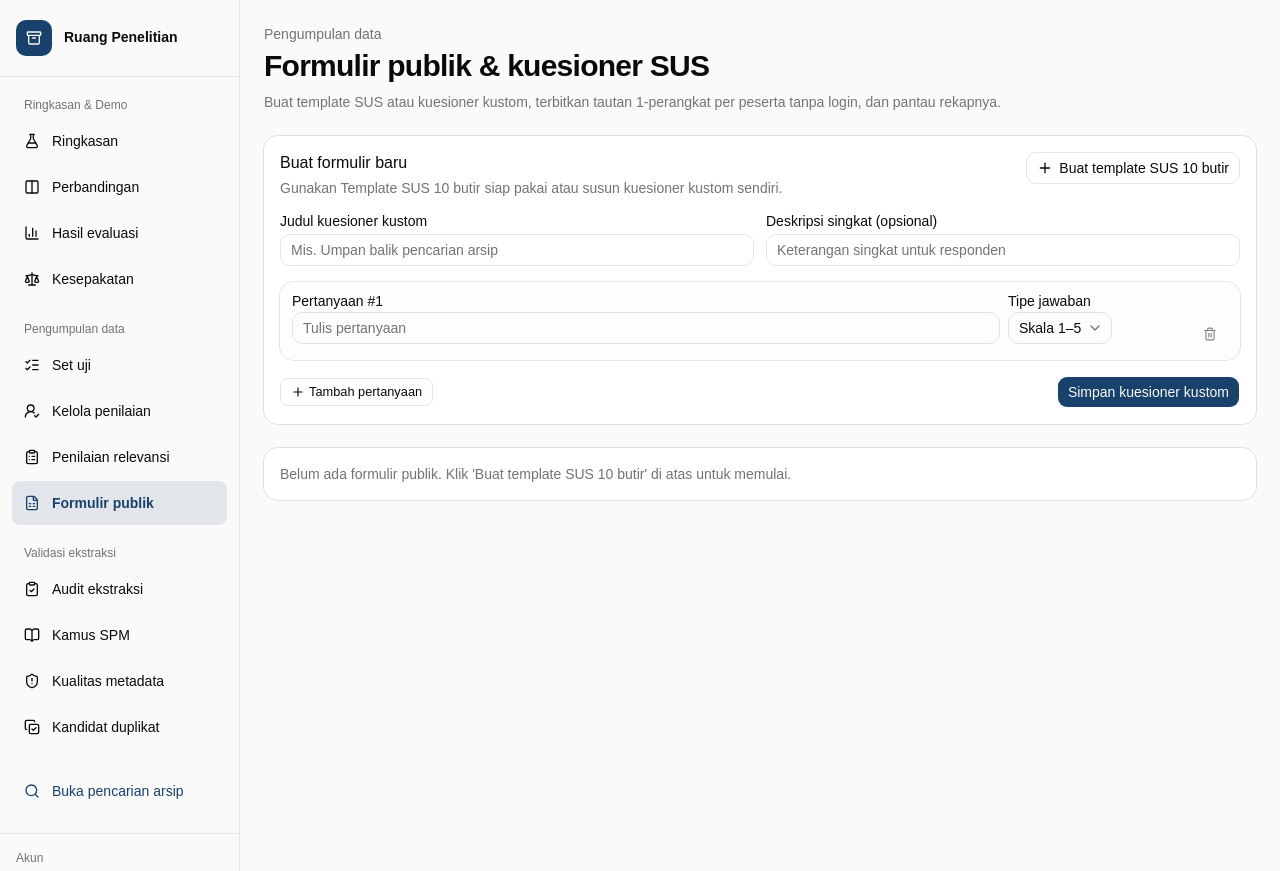
admin dapat membuat template SUS dan generate tautan di /app/research/forms, petugas ditolak 403
Later steps or results of the test are not shown.
Click the button "Buat template SUS 10 butir": coordinates (1133, 168) [1026,152,1240,184]
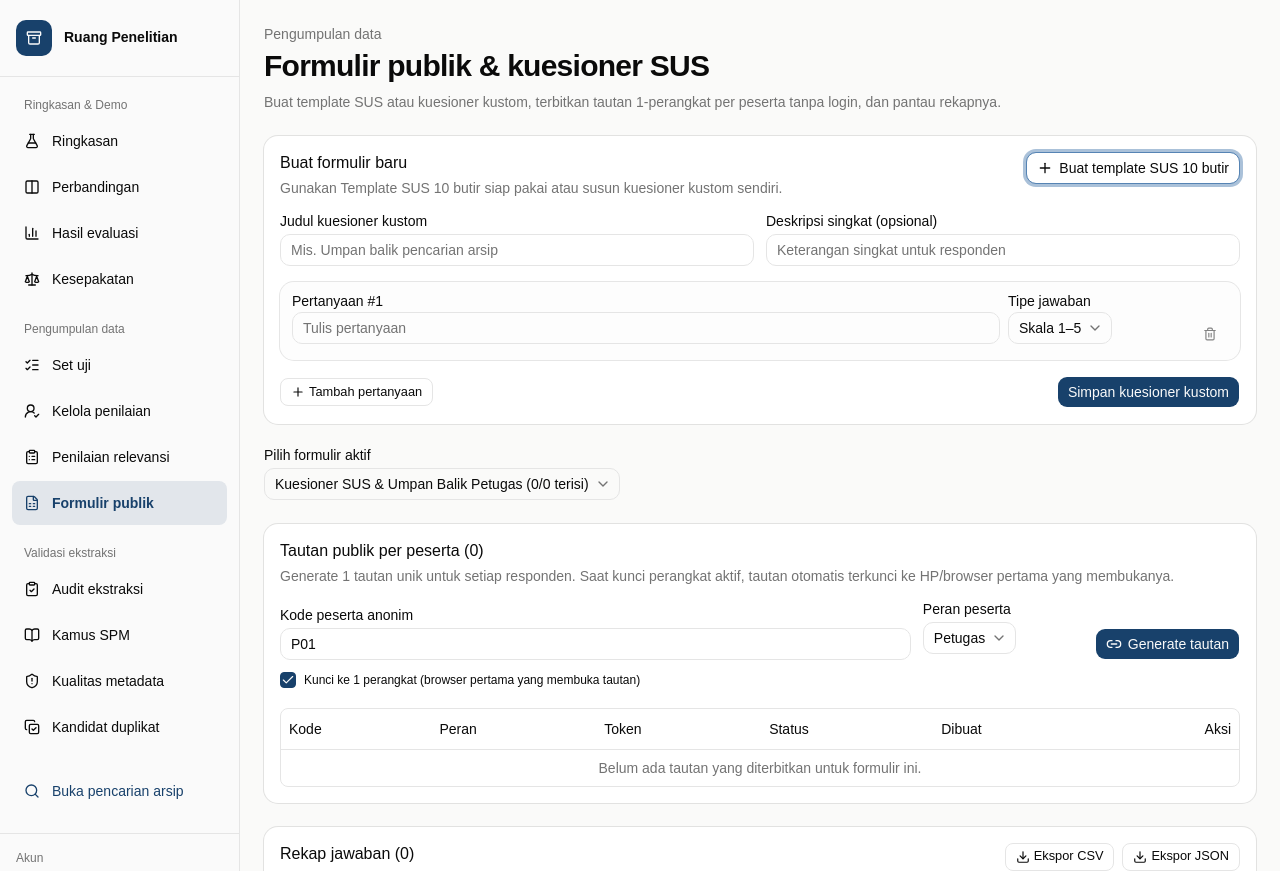
Click the button "Generate tautan": coordinates (1167, 644) [1095,628,1240,660]
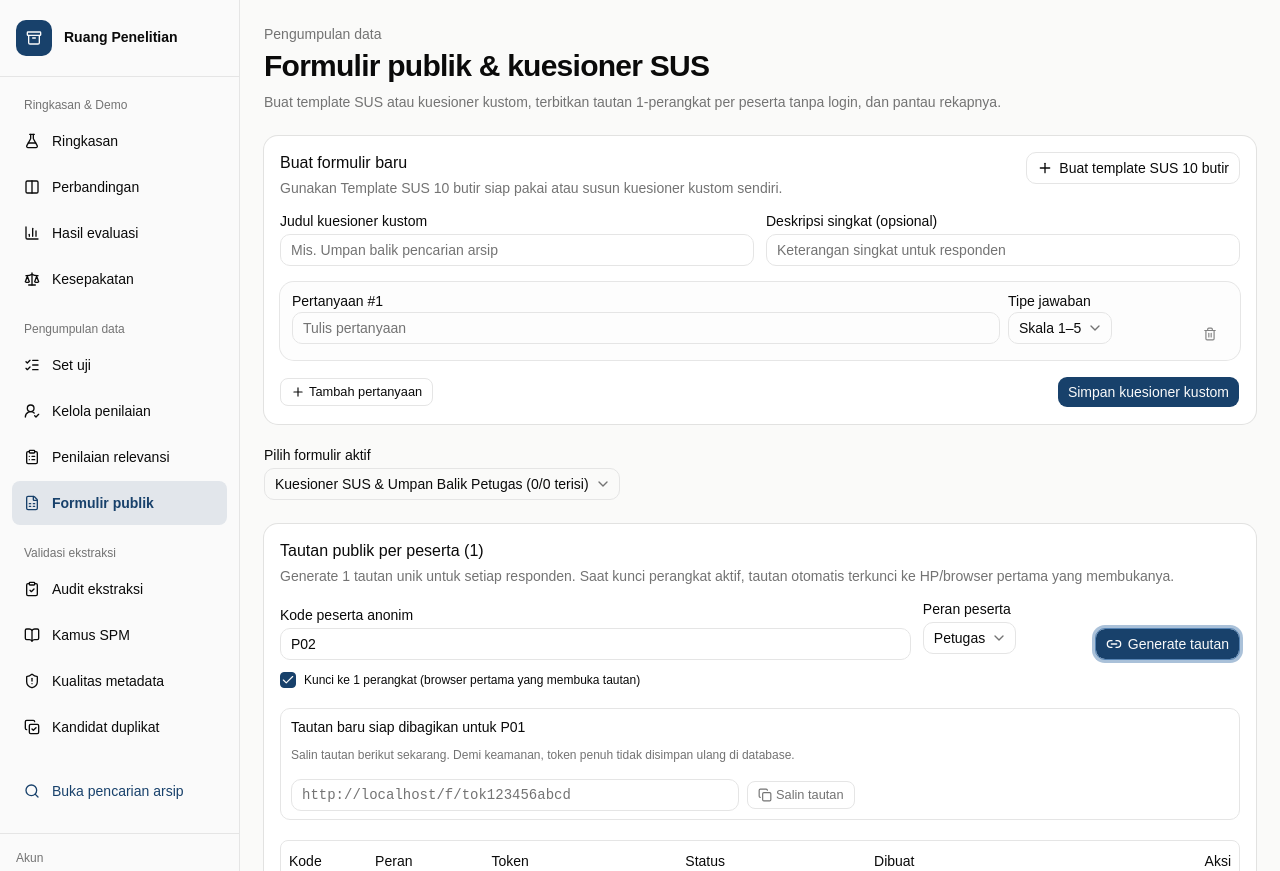
Check: the field showing "/f/tok123456abcd" is shown, box [291,779,739,811]
